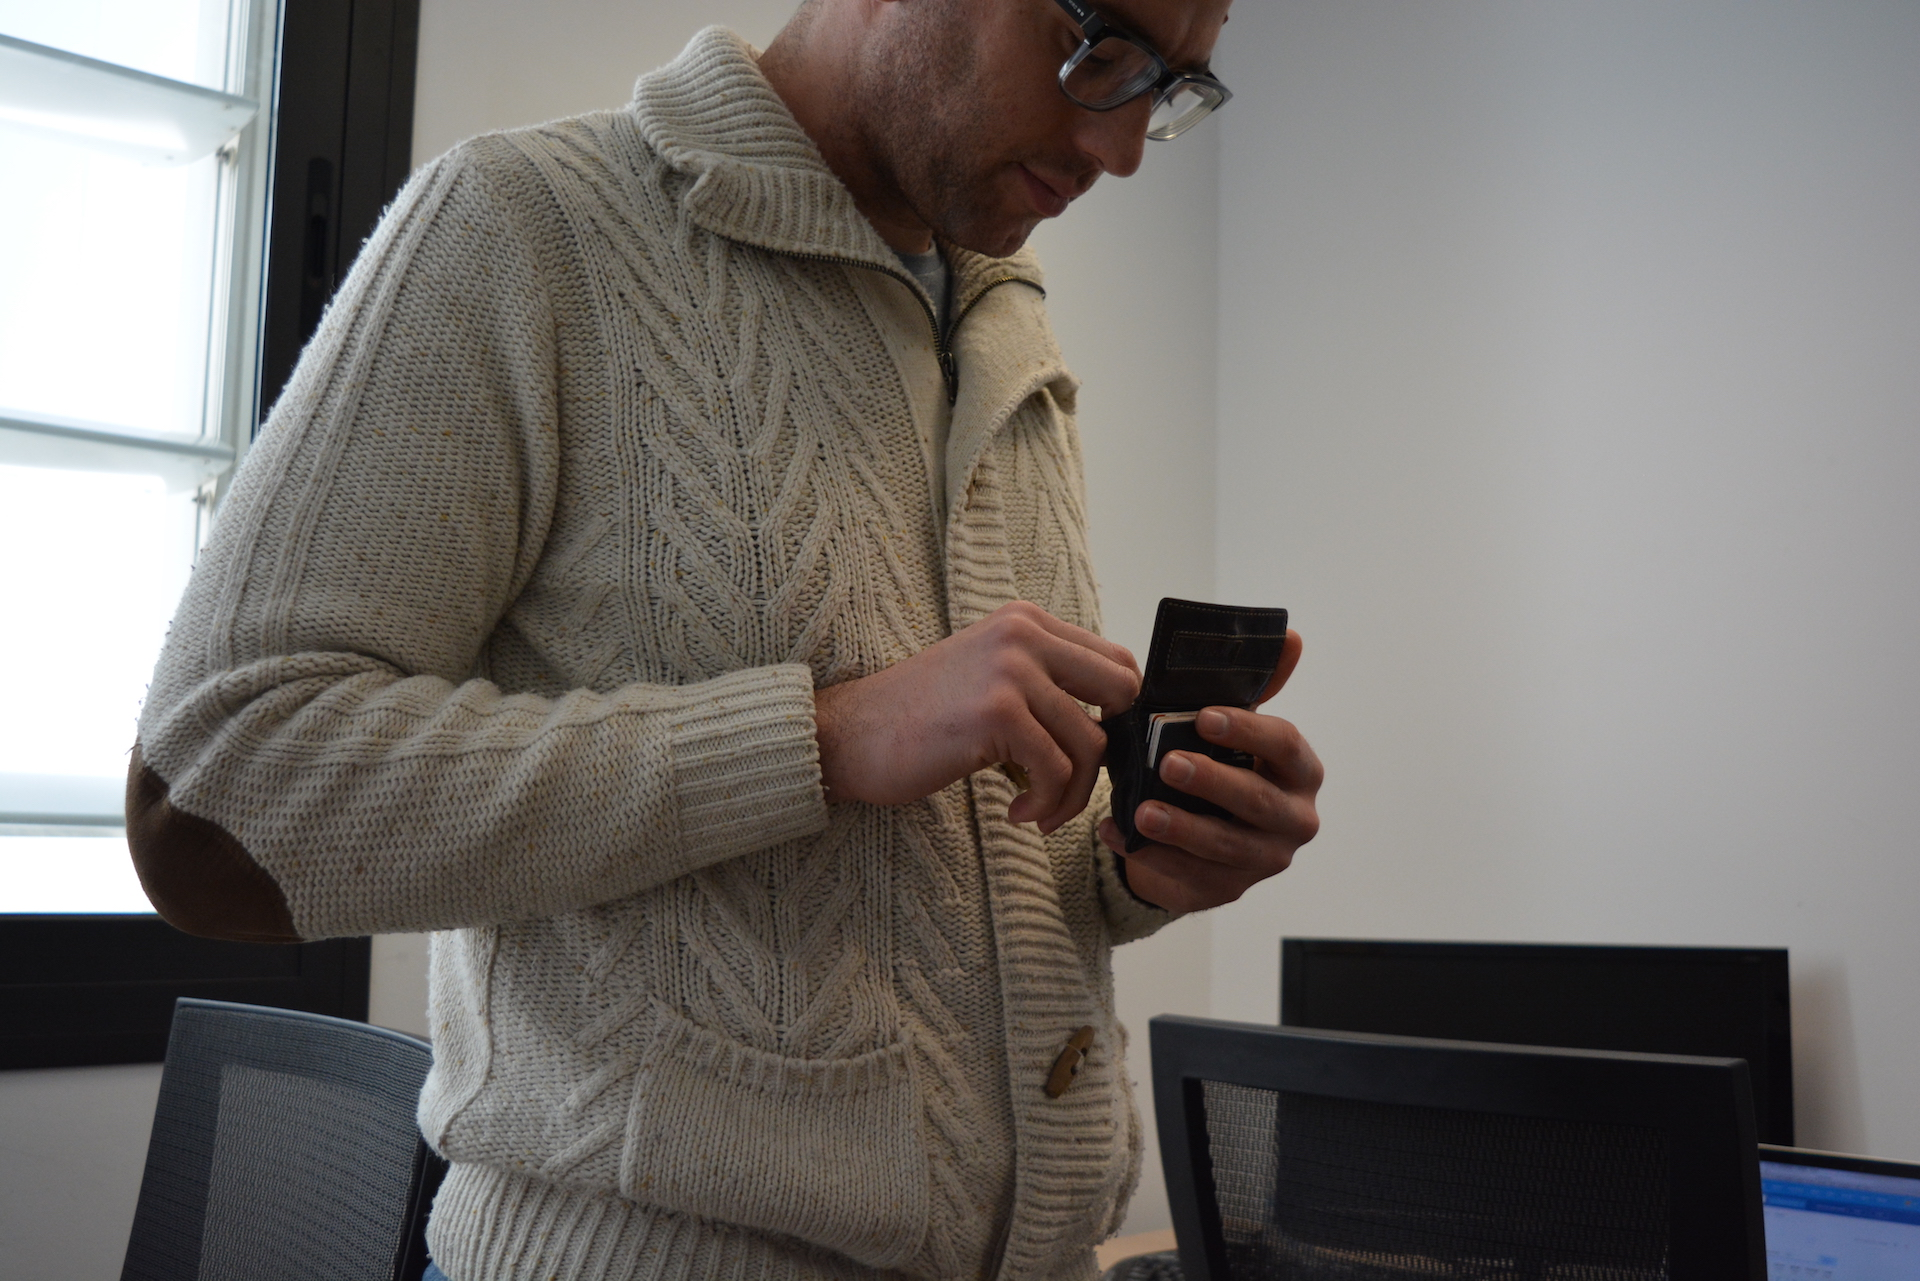monedero: (1098, 595, 1292, 858)
